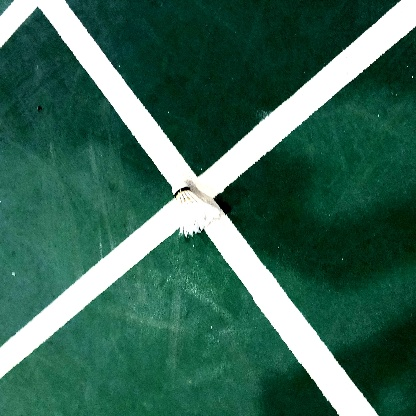ball_single: (172, 181, 220, 238)
